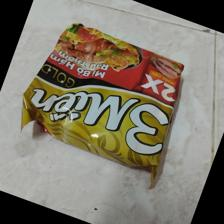3mien: (21, 21, 185, 191)
